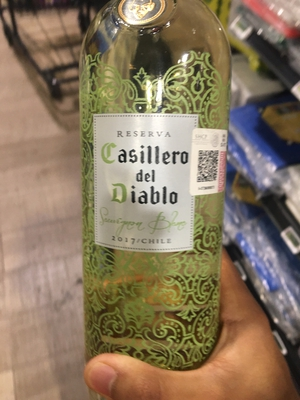casillero del diablo sauvignon blanc: (75, 8, 253, 391)
